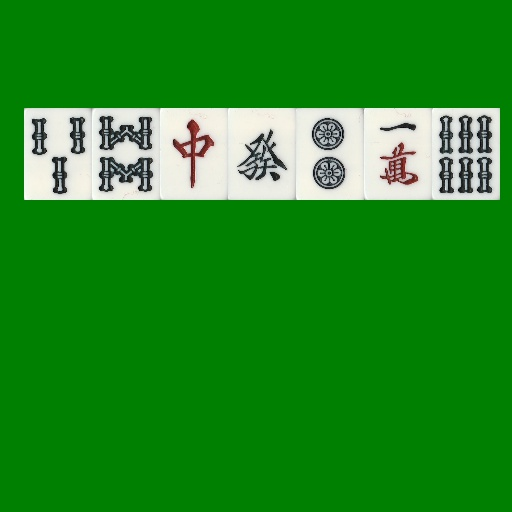1m: (364, 108, 432, 200)
2p: (296, 108, 364, 200)
3s: (24, 108, 92, 200)
6s: (432, 108, 500, 200)
8s: (92, 108, 160, 200)
hatsu: (228, 108, 296, 200)
tyun: (160, 108, 228, 200)
